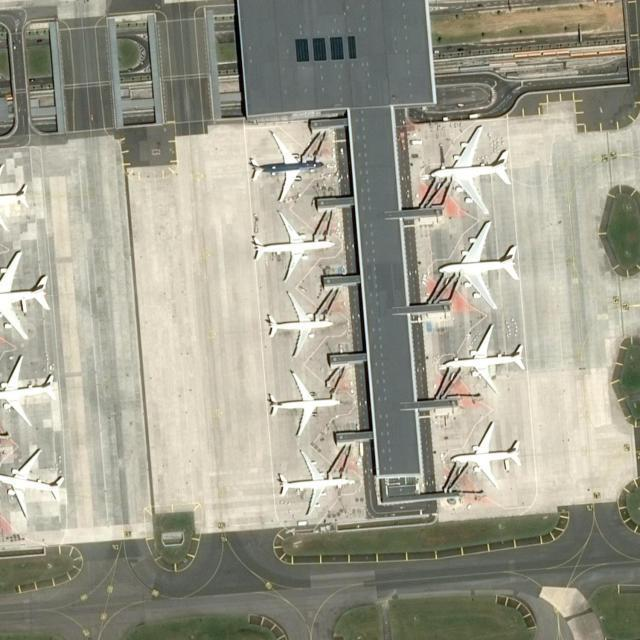Aircraft: (430, 121, 516, 217), (435, 219, 523, 311), (440, 318, 526, 392), (447, 419, 524, 491), (244, 132, 324, 200), (249, 217, 333, 281), (0, 247, 56, 338), (273, 449, 353, 511), (267, 370, 341, 436), (258, 290, 334, 354), (0, 448, 65, 519), (0, 358, 62, 425), (0, 164, 33, 230)
